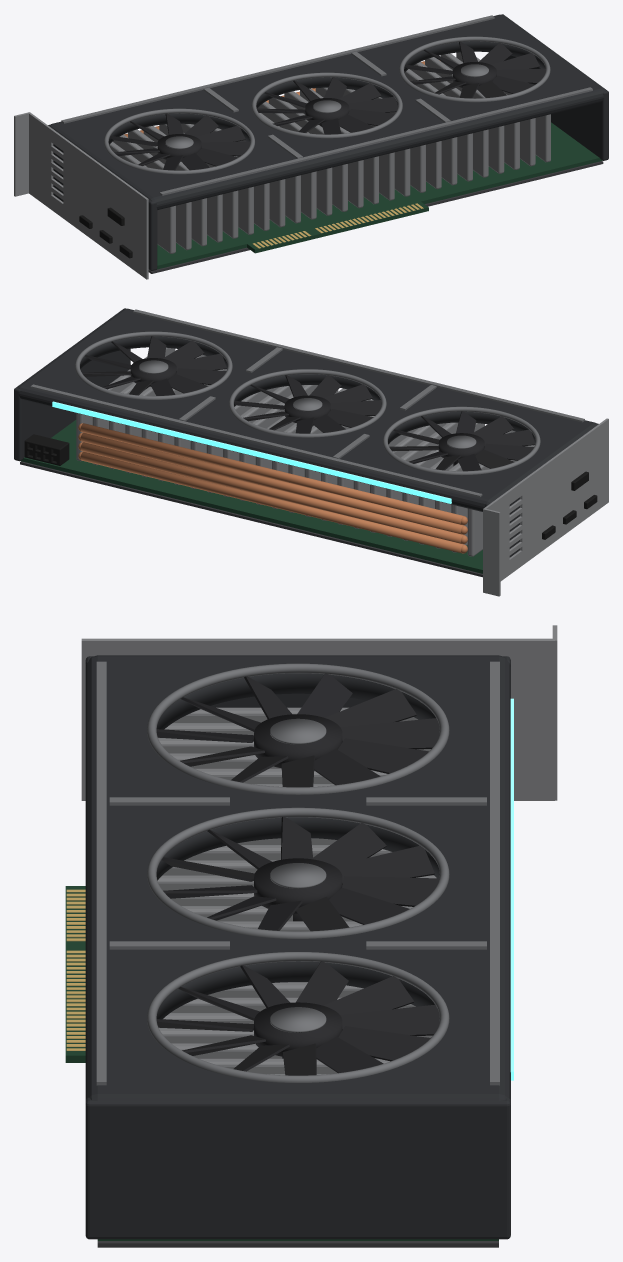
File: gpu.glb
3 views of the same model, one above another, from view 1: azimuth 30°, elevation 25°; view 2: azimuth 150°, elevation 25°; view 3: azimuth 270°, elevation 25° (orthographic). The views are drawn at different scales.
Parts seen in each view (by area): view 1: Shroud, Fins, IOBracket, PCB, FanBlades1, FanBlades0, FanBlades2, EndCap, AccentEdge.001, AccentEdge, FanRing2, FanRing0 (+8 smaller); view 2: Shroud, IOBracket, Fins, PCB, HeatPipe1, HeatPipe2, HeatPipe3, HeatPipe0, FanBlades0, FanBlades2, FanBlades1, EndCap (+12 smaller); view 3: Shroud, EndCap, Fins, IOBracket, FanBlades2, FanBlades0, FanBlades1, FanRing0, FanRing1, FanRing2, AccentEdge.001, AccentEdge (+14 smaller).
Part boxes in pixels (x1,y1,x2,y2): Shroud: [49, 14, 605, 209]; Fins: [109, 52, 550, 253]; IOBracket: [29, 112, 148, 279]; PCB: [157, 122, 602, 269]; FanBlades1: [257, 77, 397, 134]; FanBlades0: [110, 113, 250, 170]; FanBlades2: [405, 41, 545, 98]; EndCap: [502, 14, 608, 160]; AccentEdge.001: [159, 87, 592, 195]; AccentEdge: [61, 15, 494, 123]; FanRing2: [399, 36, 550, 102]; FanRing0: [104, 108, 254, 174]; Shroud: [17, 308, 597, 511]; IOBracket: [484, 418, 608, 581]; Fins: [76, 347, 534, 556]; PCB: [21, 420, 482, 573]; HeatPipe1: [80, 442, 463, 543]; HeatPipe2: [80, 432, 463, 534]; HeatPipe3: [80, 423, 463, 524]; HeatPipe0: [80, 451, 463, 553]; FanBlades0: [389, 411, 535, 471]; FanBlades2: [82, 336, 226, 395]; FanBlades1: [234, 375, 381, 433]; EndCap: [14, 308, 130, 461]; Shroud: [85, 655, 510, 1113]; EndCap: [85, 1097, 510, 1239]; Fins: [157, 707, 436, 1075]; IOBracket: [81, 638, 554, 800]; FanBlades2: [156, 961, 439, 1075]; FanBlades0: [156, 673, 439, 787]; FanBlades1: [162, 816, 439, 931]; FanRing0: [147, 663, 449, 794]; FanRing1: [147, 807, 449, 938]; FanRing2: [147, 952, 449, 1082]; AccentEdge.001: [96, 661, 106, 1085]; AccentEdge: [490, 661, 499, 1085].
Bounding box in the file's own units: 2.75 × 0.44 × 1.23.
